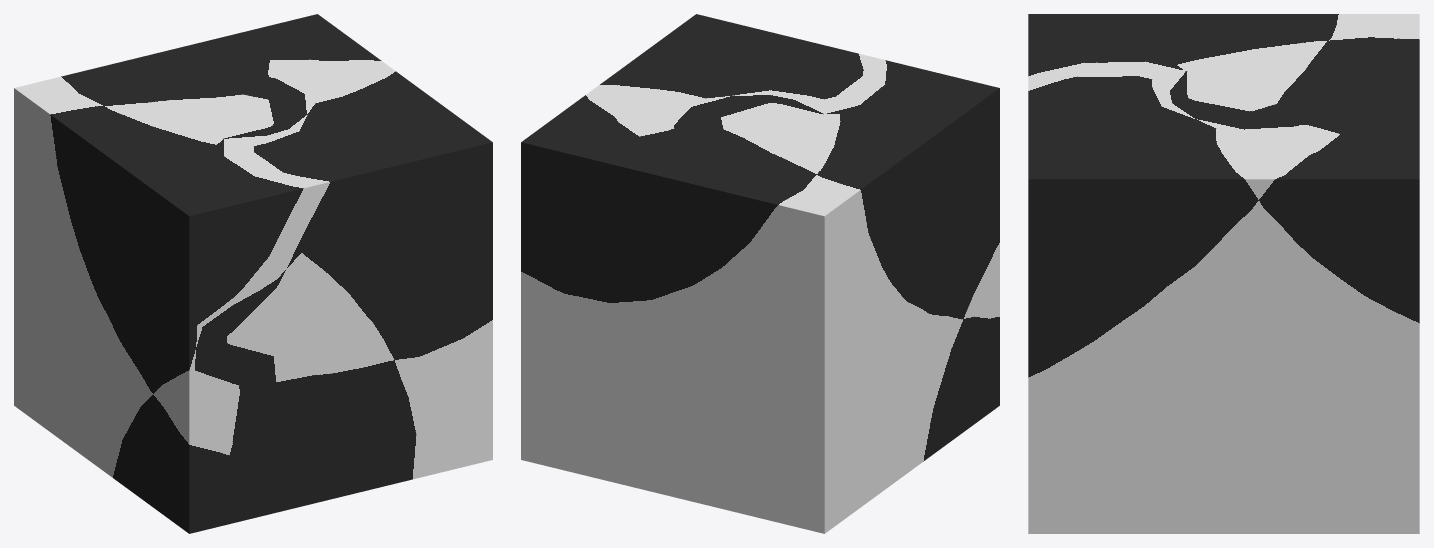
The model's file is cube_100mm_cgal_arap_result.glb.
The picture shows the model from 3 angles, left to right: view 1: azimuth 30°, elevation 25°; view 2: azimuth 150°, elevation 25°; view 3: azimuth 270°, elevation 25°; orthographic projection. The views are drawn at different scales.
Size of the model in its own units: 100 by 100 by 100.
1 material, 1 textured.
